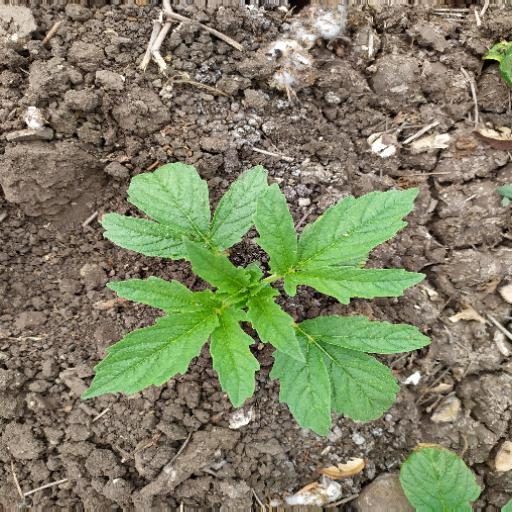crop: (91, 161, 429, 432)
